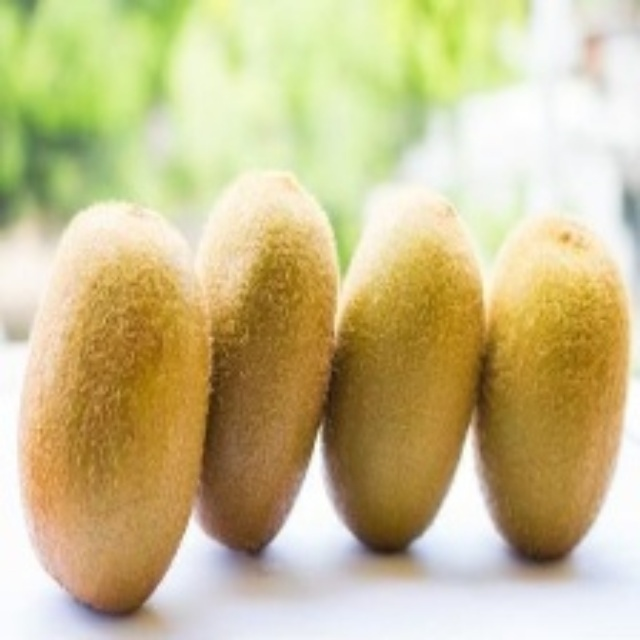kiwi: (31, 201, 220, 620), (335, 189, 476, 562), (198, 175, 328, 570), (497, 208, 628, 569)
